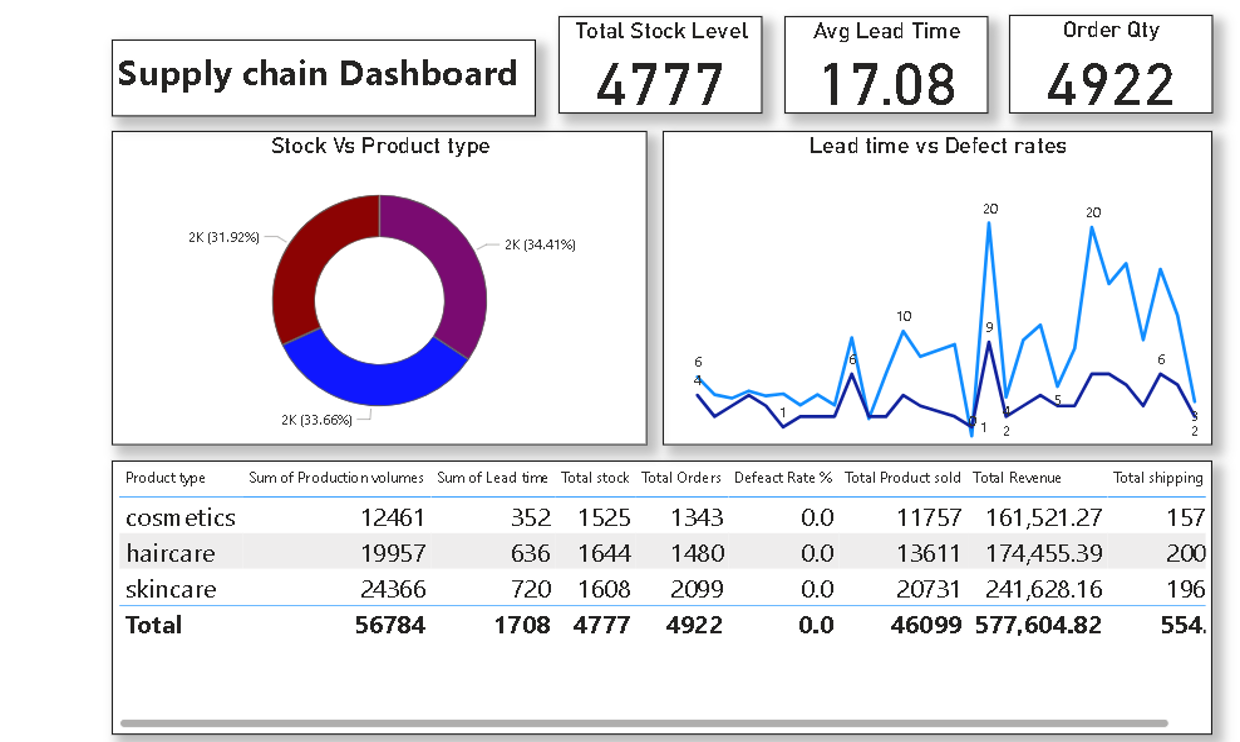

The page's visual inventory and layout, read from the dashboard file:
{"tool":"powerbi","page":{"name":"Inventory","canvas":[1280,720],"ordinal":1},"visuals":[{"type":"card","title":"Avg Lead Time","fields":{"Values":["Measure _Table.Avg Lead Time"]},"box":[833.9,46.7,185,90],"z":0},{"type":"card","title":"Total Stock Level","fields":{"Values":["Measure _Table.Total stock"]},"box":[628.9,46.7,185,90],"z":1000},{"type":"card","title":"Order Qty","fields":{"Values":["Measure _Table.Total Orders"]},"box":[1037.8,45.6,184.6,91.1],"z":2000},{"type":"donutChart","title":"Stock Vs Product type","fields":{"Category":["supply_chain_data.Product type"],"Y":["Sum(supply_chain_data.Stock levels)"]},"box":[223.7,152.5,486.3,290.2],"z":3000},{"type":"lineChart","title":"Lead time vs Defect rates ","fields":{"Y":["Sum(supply_chain_data.Defect rates)","CountNonNull(supply_chain_data.Product type)"],"Category":["supply_chain_data.Lead time"]},"box":[723.7,152.5,498.9,290.2],"z":4000},{"type":"tableEx","fields":{"Values":["supply_chain_data.Product type","Sum(supply_chain_data.Production volumes)","Sum(supply_chain_data.Lead time)","Measure _Table.Total stock","Measure _Table.Total Orders","Measure _Table.Defeact Rate %","Measure _Table.Total Product sold","Measure _Table.Total Revenue","Measure _Table.Total shipping Cost"]},"box":[223.7,456.5,999,253.5],"z":5000},{"type":"textbox","box":[223.3,68.4,385.1,70.6],"z":6000}]}

Visuals, with their boxes on the page's 1280x720 design canvas (x1, y1, x2, y2). These are canvas units, not pixel positions in the 1240x742 screenshot, which may show the page scaled, cropped or inside an application window:
"Avg Lead Time" card: crop(834, 47, 1019, 137)
"Total Stock Level" card: crop(629, 47, 814, 137)
"Order Qty" card: crop(1038, 46, 1222, 137)
"Stock Vs Product type" donutChart: crop(224, 152, 710, 443)
"Lead time vs Defect rates " lineChart: crop(724, 152, 1223, 443)
tableEx - supply_chain_data.Product type x Sum(supply_chain_data.Production volumes): crop(224, 456, 1223, 710)
textbox: crop(223, 68, 608, 139)
